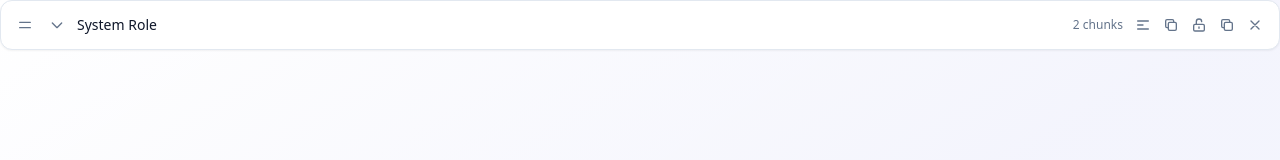
it: GroupCard › compose button with non-empty compose shows Replace/Append/Cancel dialog
Click the button titled "Compose group" at (1143, 25), box left=1131, top=13, right=1155, bottom=37
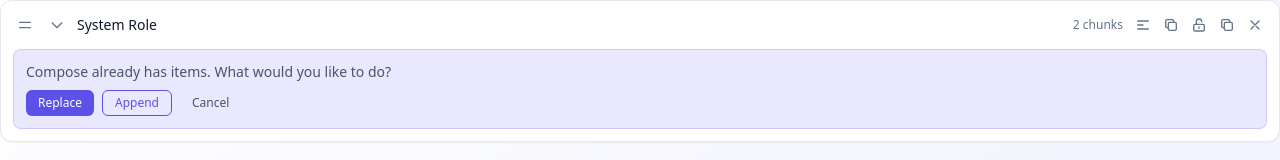
expect the button "Replace" is shown: met, box left=26, top=90, right=94, bottom=116
expect the button "Append" is shown: met, box left=102, top=90, right=172, bottom=116
expect the button "Cancel" is shown: met, box left=180, top=90, right=241, bottom=116
